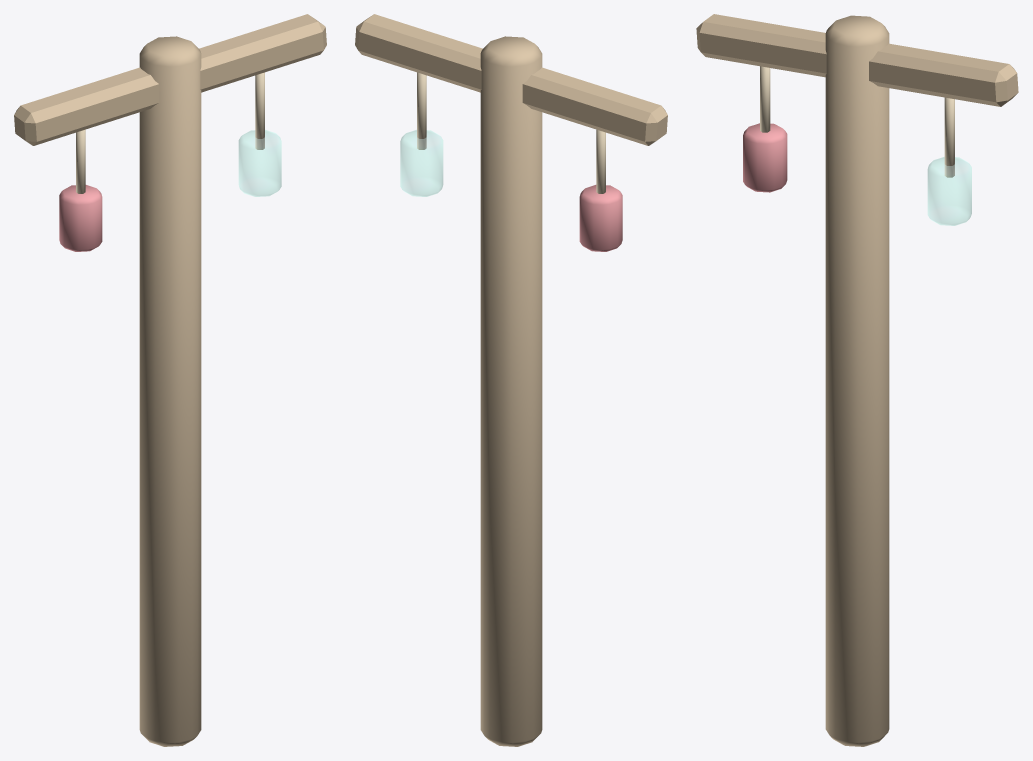
Rendered from P04-shell-windchime-post.glb.
3 renders of one model, left to right at view 1: azimuth 30°, elevation 25°; view 2: azimuth 150°, elevation 25°; view 3: azimuth 330°, elevation 25°, orthographic. The views are drawn at different scales.
Parts seen in each view (by area): view 1: driftwood, Chime_Bell, Chime_Bell.001, cream_rope; view 2: driftwood, Chime_Bell, Chime_Bell.001, cream_rope; view 3: driftwood, Chime_Bell, Chime_Bell.001, cream_rope.
Boxes of the visible parts, x1,y1,x2,y2 form: driftwood: [14, 14, 326, 746]; Chime_Bell: [59, 185, 102, 251]; Chime_Bell.001: [238, 130, 281, 196]; cream_rope: [76, 72, 264, 193]; driftwood: [355, 14, 667, 746]; Chime_Bell: [579, 185, 622, 251]; Chime_Bell.001: [400, 130, 443, 196]; cream_rope: [417, 72, 605, 193]; driftwood: [696, 14, 1018, 746]; Chime_Bell: [743, 123, 787, 192]; Chime_Bell.001: [927, 157, 971, 225]; cream_rope: [760, 66, 954, 177].
Bounding box in the file's own units: 0.8436 × 1.84 × 0.1447.
